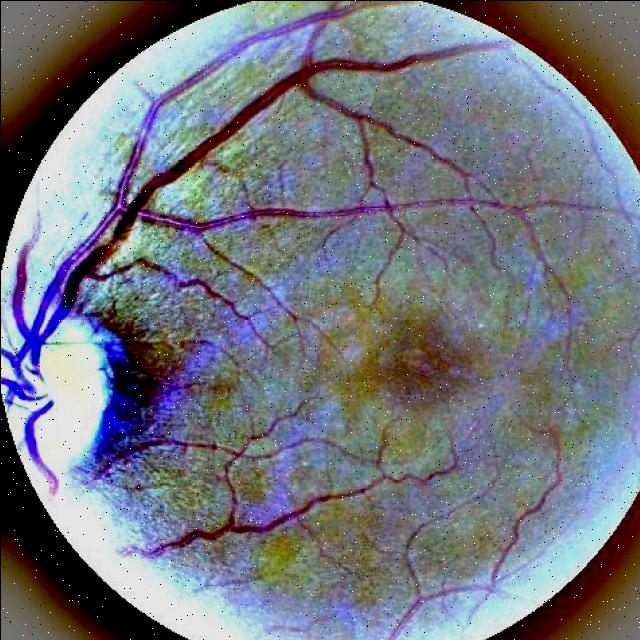Macula: (324, 261, 499, 434)
Nerves: (7, 37, 478, 490)
Optic Disk: (0, 276, 141, 511)
